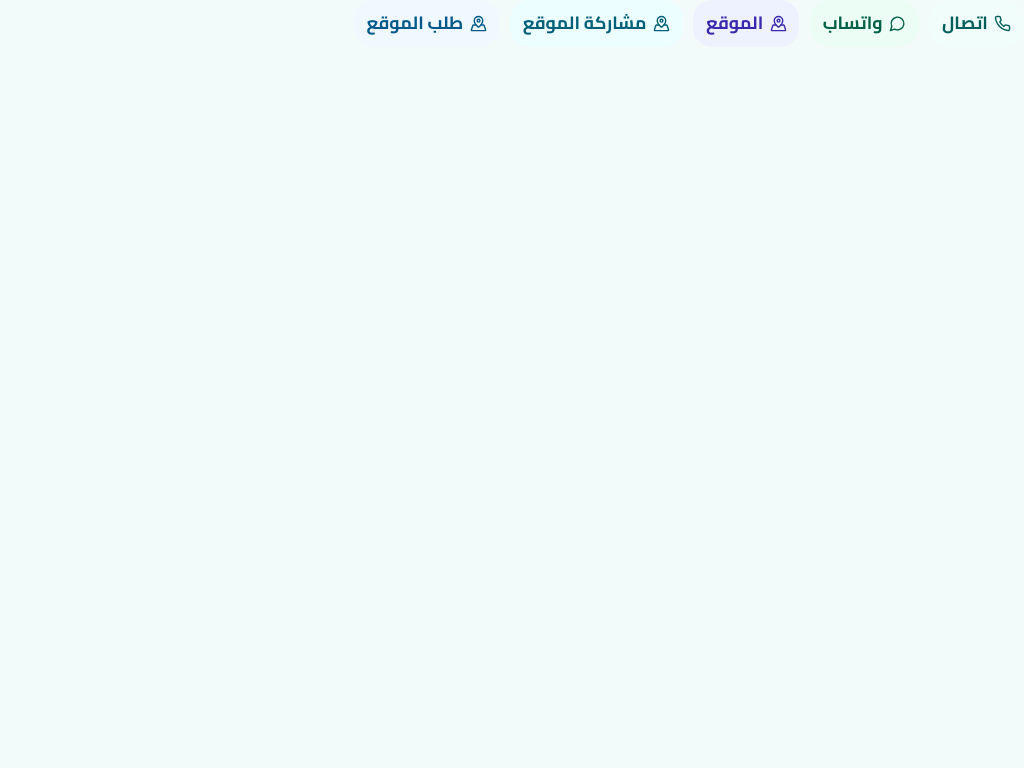
CustomerContactActions › يعرض الاتصال وواتساب وزر الموقع والخيار المنفصل لطلب الموقع
Click the button with aria-label "إرسال رسالة واتساب للعميل" at (864, 23), box [810,0,919,47]
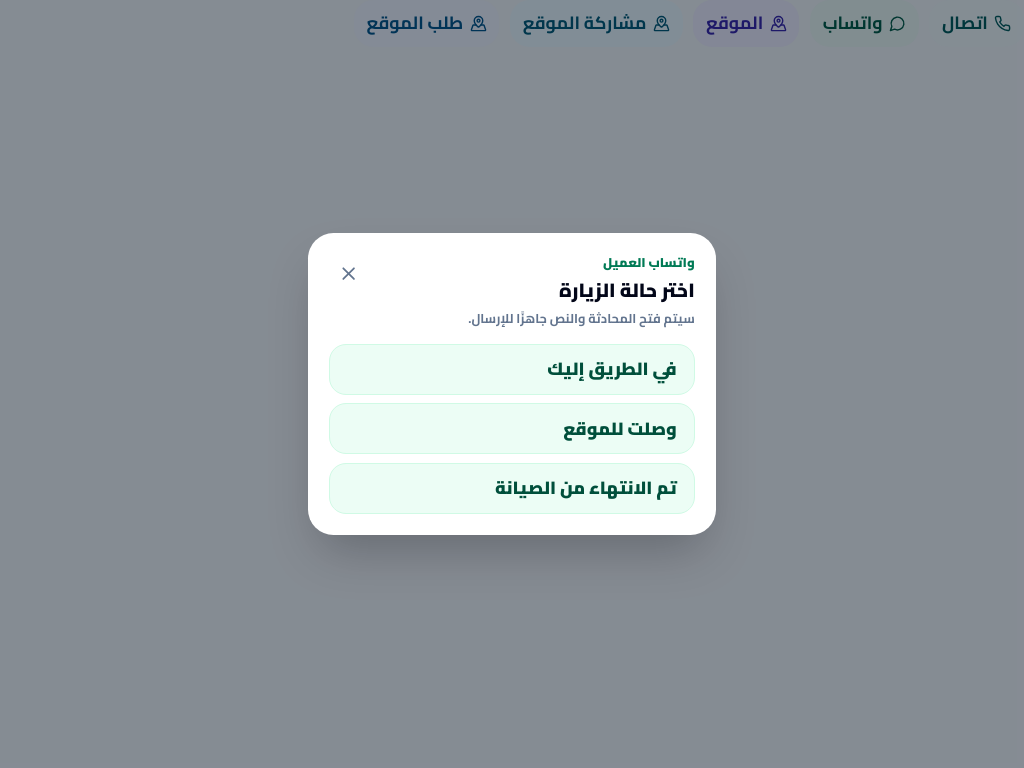
Expected: the link with aria-label "فتح موقع العميل على خرائط Google" reads "الموقع", [693,0,799,47]
Result: the dialog is shown at [308,233,716,535]
Result: the button "في الطريق إليك" is shown at [329,344,695,395]
